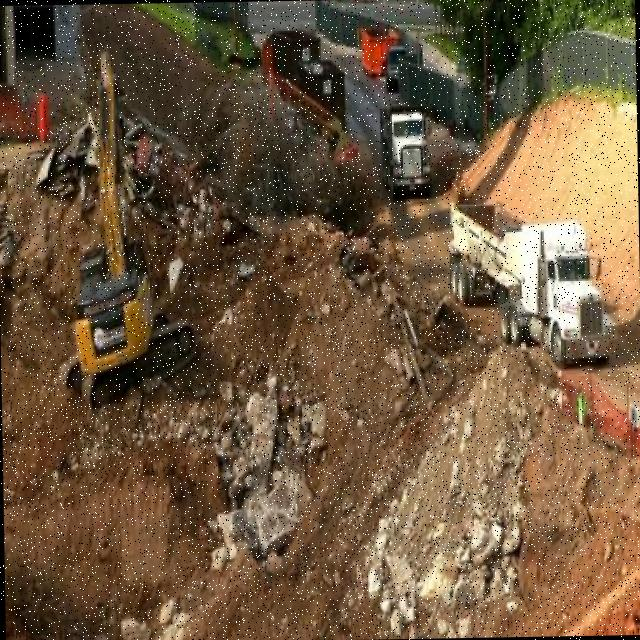Dump Truck: (446, 200, 618, 364), (378, 102, 428, 198)
Excavator: (48, 43, 198, 410)
